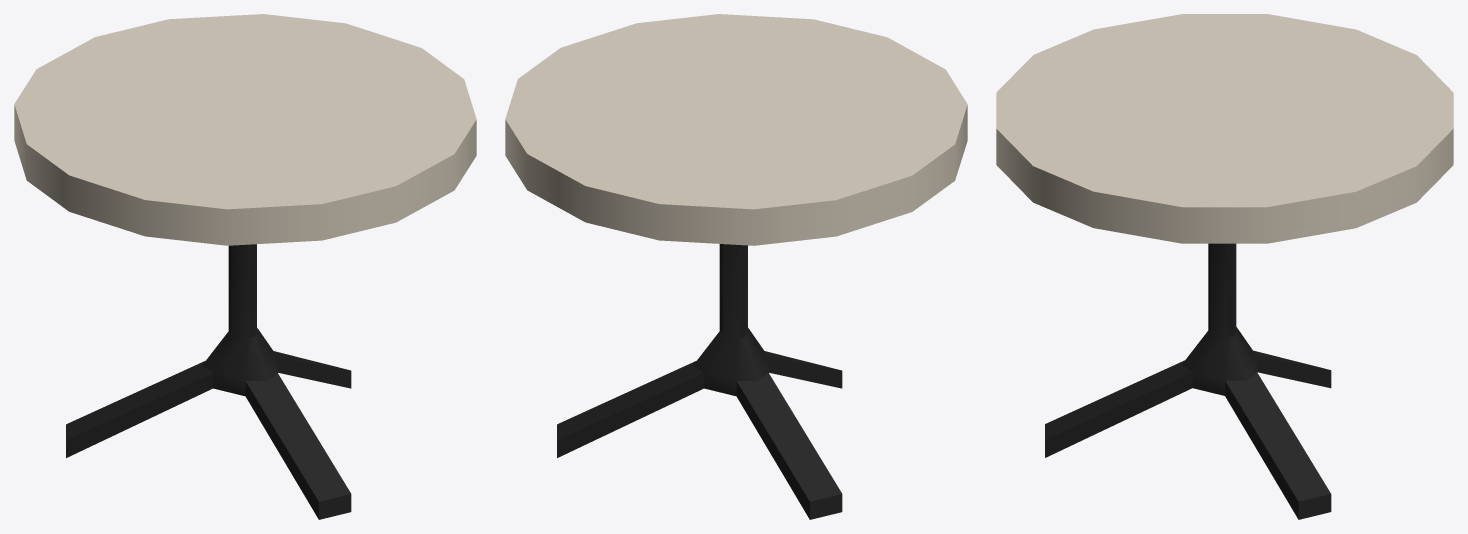
The model's file is scene_roundTable.fbx.
3 views of the same model, side by side, from view 1: azimuth 30°, elevation 25°; view 2: azimuth 150°, elevation 25°; view 3: azimuth 270°, elevation 25° (orthographic).
Parts seen in each view (by area): view 1: roundTable; view 2: roundTable; view 3: roundTable.
Boxes of the visible parts, x1,y1,x2,y2 form: roundTable: (14,14,476,519); roundTable: (505,14,967,519); roundTable: (996,14,1453,519).
Size of the model in its own units: 0.9078 by 0.744 by 0.9078.
